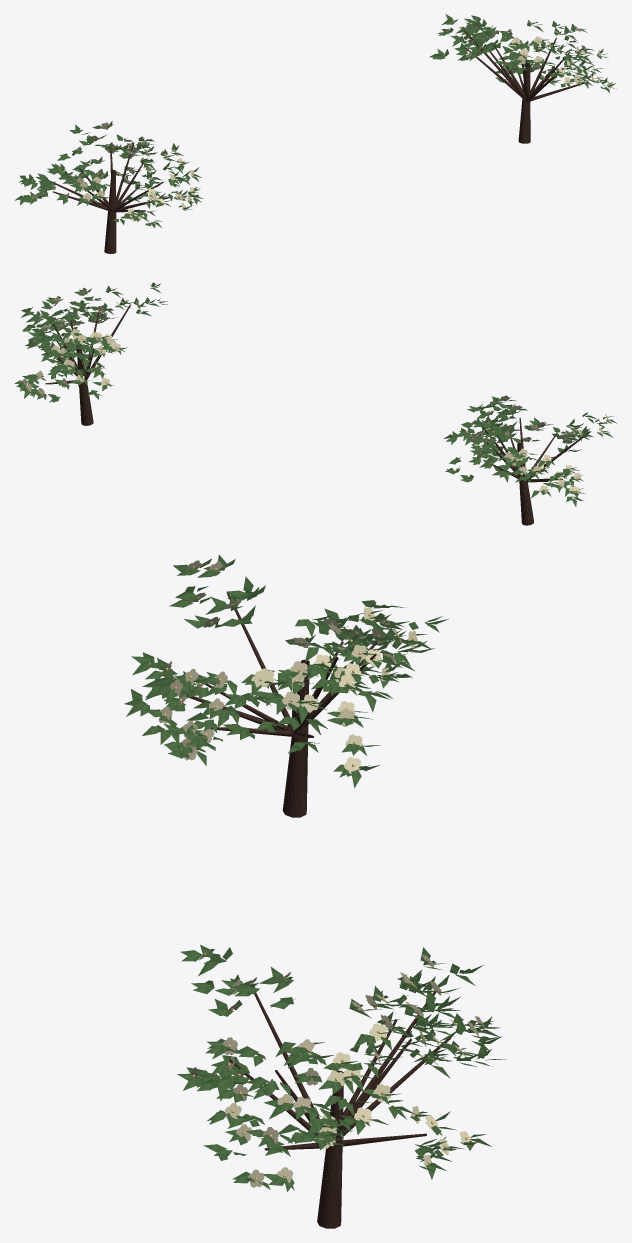
Rendered from grove_flowers.glb.
3 renders of one model, top to bottom at view 1: azimuth 30°, elevation 25°; view 2: azimuth 150°, elevation 25°; view 3: azimuth 270°, elevation 25°, orthographic. The views are drawn at different scales.
Visible parts, largest first — view 1: grove_flowers0; view 2: grove_flowers0; view 3: grove_flowers0.
Part boxes in pixels (box(x1,y1,x2,y2)): grove_flowers0: box(14, 14, 616, 253); grove_flowers0: box(14, 282, 616, 525); grove_flowers0: box(124, 554, 506, 1228).
Bounding box in the file's own units: 19.15 × 3.96 × 5.6.
1 material, 1 textured.
